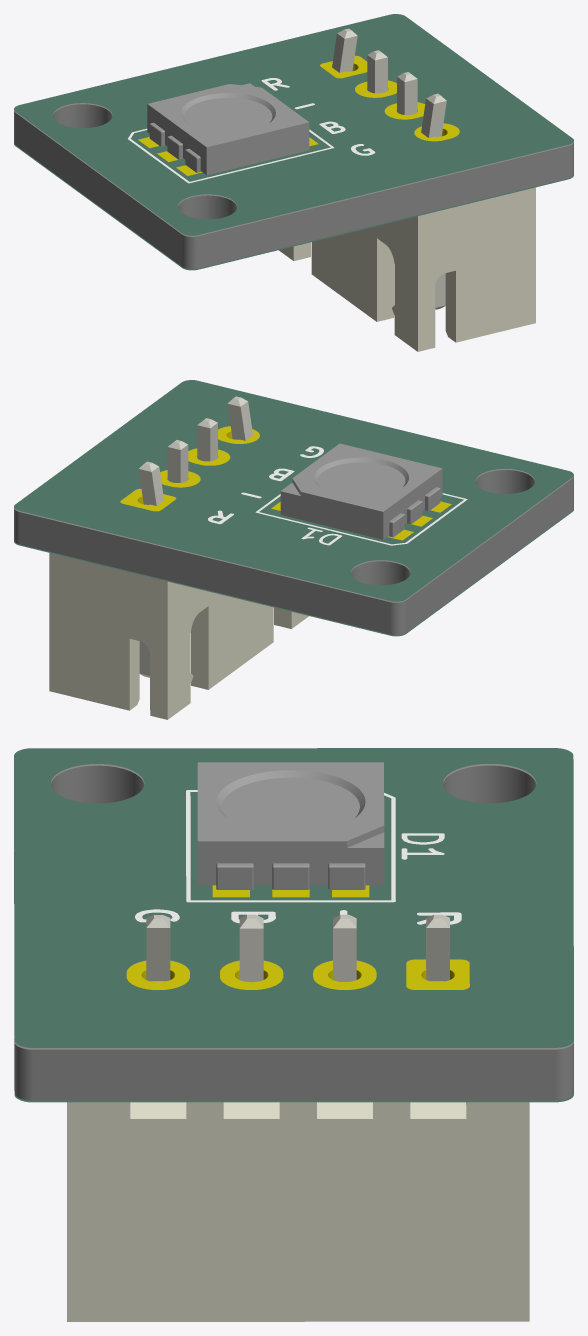
Rendered from rgb1.glb.
3 renders of one model, top to bottom at view 1: azimuth 30°, elevation 25°; view 2: azimuth 150°, elevation 25°; view 3: azimuth 270°, elevation 25°, orthographic. The views are drawn at different scales.
Parts seen in each view (by area): view 1: rgb_led_module_version2_soldermask, 143, 123; view 2: rgb_led_module_version2_soldermask, 143, 123; view 3: rgb_led_module_version2_soldermask, 143, 123.
Boxes of the visible parts, x1,y1,x2,y2 form: rgb_led_module_version2_soldermask: (14, 14, 573, 270); 143: (279, 28, 535, 351); 123: (147, 83, 309, 175); rgb_led_module_version2_soldermask: (14, 380, 573, 636); 143: (49, 396, 308, 719); 123: (280, 443, 442, 539); rgb_led_module_version2_soldermask: (14, 748, 573, 1102); 143: (67, 914, 529, 1321); 123: (197, 762, 384, 889).
Size of the model in its own units: 119 by 64.93 by 93.73.
